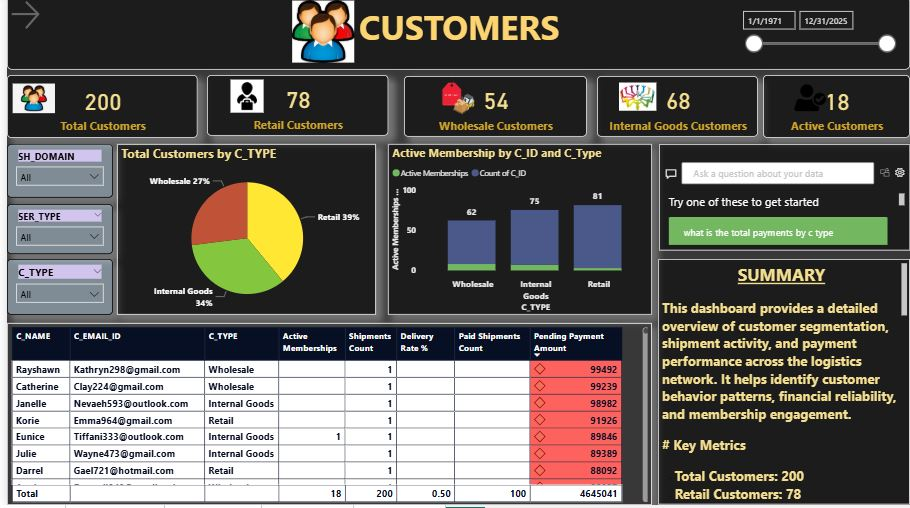

This screenshot's page, from the dashboard's own definition file:
{"tool":"powerbi","page":{"name":"Customers","canvas":[1280,720],"ordinal":1},"visuals":[{"type":"textbox","box":[0,0,1280,102.7],"z":0},{"type":"slicer","fields":{"Values":["Calendar.Date"]},"box":[1030.4,9.9,238.1,92.1],"z":1000},{"type":"slicer","fields":{"Values":["Shipment_Details.SH_DOMAIN"]},"box":[0,208.8,149.8,76.3],"z":2000},{"type":"slicer","fields":{"Values":["Shipment_Details.SER_TYPE"]},"box":[0,293.8,149.8,70.6],"z":3000},{"type":"slicer","fields":{"Values":["Customer (1).C_TYPE"]},"box":[0,371.5,149.8,79.2],"z":4000},{"type":"card","fields":{"Values":["Status.Total Customers"]},"box":[0,110.9,270.4,89],"z":5000},{"type":"tableEx","fields":{"Values":["Customer (1).C_NAME","Customer (1).C_EMAIL_ID","Customer (1).C_TYPE","Status.Active Memberships","Payment_Details.Shipments Count","Status.Delivery Rate %","Payment_Details.Paid Shipments Count","Status.Pending Payment Amount"]},"box":[0,462.2,914.4,257.8],"z":6000},{"type":"pieChart","fields":{"Category":["Customer (1).C_TYPE"],"Y":["Status.Total Customers"]},"box":[155.5,208.8,367.2,241.9],"z":7000},{"type":"actionButton","box":[0,0,117.6,51],"z":8000},{"type":"card","fields":{"Values":["Payment_Details.Retail Customers"]},"box":[283.9,110.9,257,85.7],"z":9000},{"type":"card","fields":{"Values":["Payment_Details.Internal Goods Customers"]},"box":[836.5,112.5,228.5,85.7],"z":10000},{"type":"card","fields":{"Values":["Payment_Details.Wholesale Customers"]},"box":[562.7,112.5,258.7,85.7],"z":11000},{"type":"card","fields":{"Values":["Customer (1).Active Customers"]},"box":[1071.5,110.6,208.3,89.3],"z":12000},{"type":"image","box":[0,117.6,75.1,52.4],"z":14000},{"type":"image","box":[304,112.5,70.6,57.1],"z":15000},{"type":"image","box":[594.6,109.2,89,62.2],"z":17000},{"type":"image","box":[850,115.9,87.3,50.4],"z":18000},{"type":"image","box":[1101.6,115.2,74.9,56.2],"z":19000},{"type":"columnChart","title":"Active Membership by C_ID and C_Type","fields":{"Category":["Customer (1).C_TYPE"],"Y":["Status.Active Memberships","CountNonNull(Customer (1).C_ID)"]},"box":[540,208.8,374.4,241.9],"z":20000},{"type":"qnaVisual","box":[923.9,208.3,356.1,151.2],"z":21000},{"type":"textbox","box":[923.3,371.7,356.7,348.3],"z":22000},{"type":"image","box":[357.1,0,182.9,97.9],"z":23000}]}

Visuals, with their boxes in screenshot pixels (x1, y1, x2, y2), scaled from the page's 1280x720 canvas onto the 910x508 screenshot:
textbox: crop(0, 0, 909, 72)
slicer - Calendar.Date: crop(733, 7, 902, 72)
slicer - Shipment_Details.SH_DOMAIN: crop(0, 147, 106, 201)
slicer - Shipment_Details.SER_TYPE: crop(0, 207, 106, 257)
slicer - Customer (1).C_TYPE: crop(0, 262, 106, 318)
card - Status.Total Customers: crop(0, 78, 192, 141)
tableEx - Customer (1).C_NAME x Customer (1).C_EMAIL_ID: crop(0, 326, 650, 507)
pieChart - Customer (1).C_TYPE x Status.Total Customers: crop(111, 147, 372, 318)
actionButton: crop(0, 0, 84, 36)
card - Payment_Details.Retail Customers: crop(202, 78, 385, 139)
card - Payment_Details.Internal Goods Customers: crop(595, 79, 757, 140)
card - Payment_Details.Wholesale Customers: crop(400, 79, 584, 140)
card - Customer (1).Active Customers: crop(762, 78, 909, 141)
image: crop(0, 83, 53, 120)
image: crop(216, 79, 266, 120)
image: crop(423, 77, 486, 121)
image: crop(604, 82, 666, 117)
image: crop(783, 81, 836, 121)
"Active Membership by C_ID and C_Type" columnChart: crop(384, 147, 650, 318)
qnaVisual: crop(657, 147, 909, 254)
textbox: crop(656, 262, 909, 507)
image: crop(254, 0, 384, 69)
